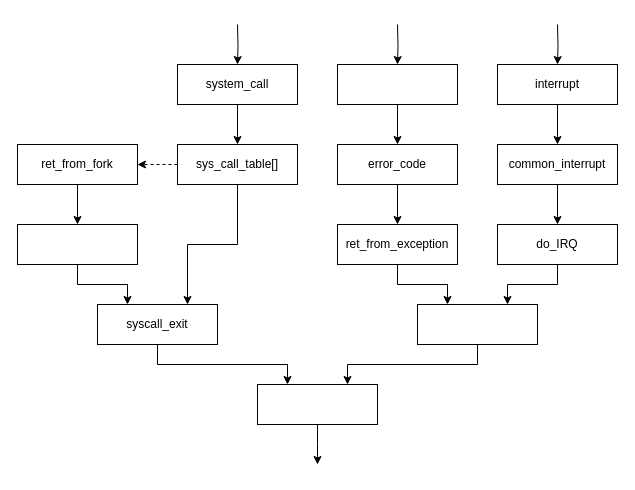
Some shapes in this 635 by 490 pixel diagram are drawn without their labels. The shapes that lost their labels are listed below. From the top down, each one's centre as x and y in pixels, then its label:
At (x=397, y=84): "xxx_error".
At (x=77, y=244): "schedule_tail".
At (x=477, y=324): "ret_from_intr".
At (x=317, y=404): "resume_userspace".
